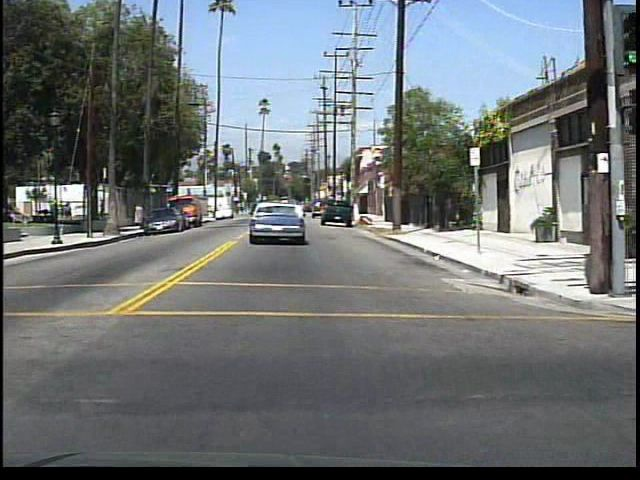person: (134, 201, 147, 229), (62, 198, 76, 224), (96, 196, 110, 221)
